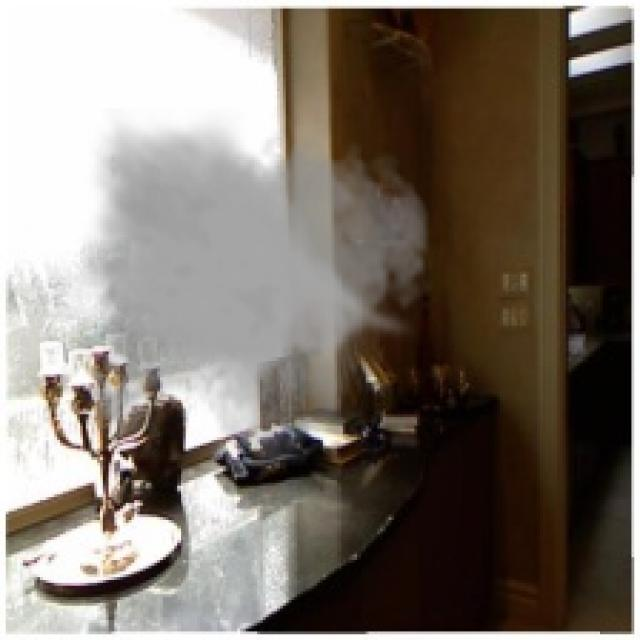smoke: (77, 108, 434, 466)
